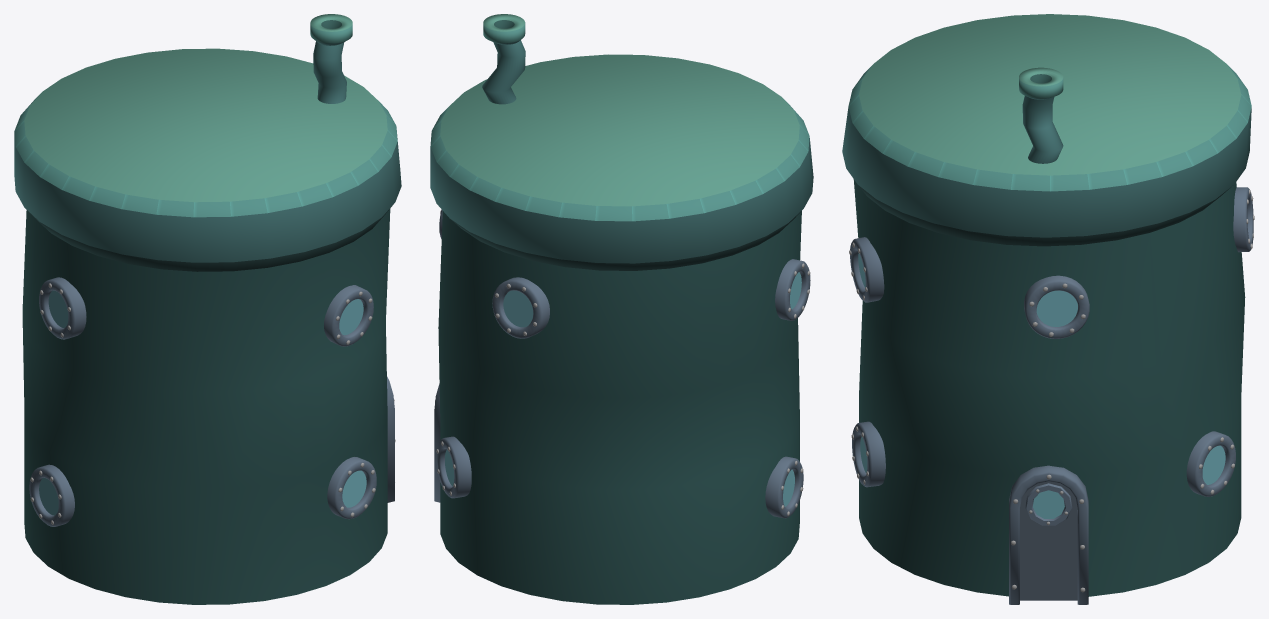
File: building7.fbx
The picture shows the model from 3 angles, left to right: view 1: azimuth 30°, elevation 25°; view 2: azimuth 150°, elevation 25°; view 3: azimuth 270°, elevation 25°; orthographic projection. The views are drawn at different scales.
Parts seen in each view (by area): view 1: sb_bb_b2; view 2: sb_bb_b2; view 3: sb_bb_b2.
Part boxes in pixels (x1,y1,x2,y2): sb_bb_b2: (14, 14, 401, 604); sb_bb_b2: (430, 14, 813, 604); sb_bb_b2: (842, 14, 1254, 604).
Bounding box in the file's own units: 217 × 290 × 216.
1 material, 1 textured.
